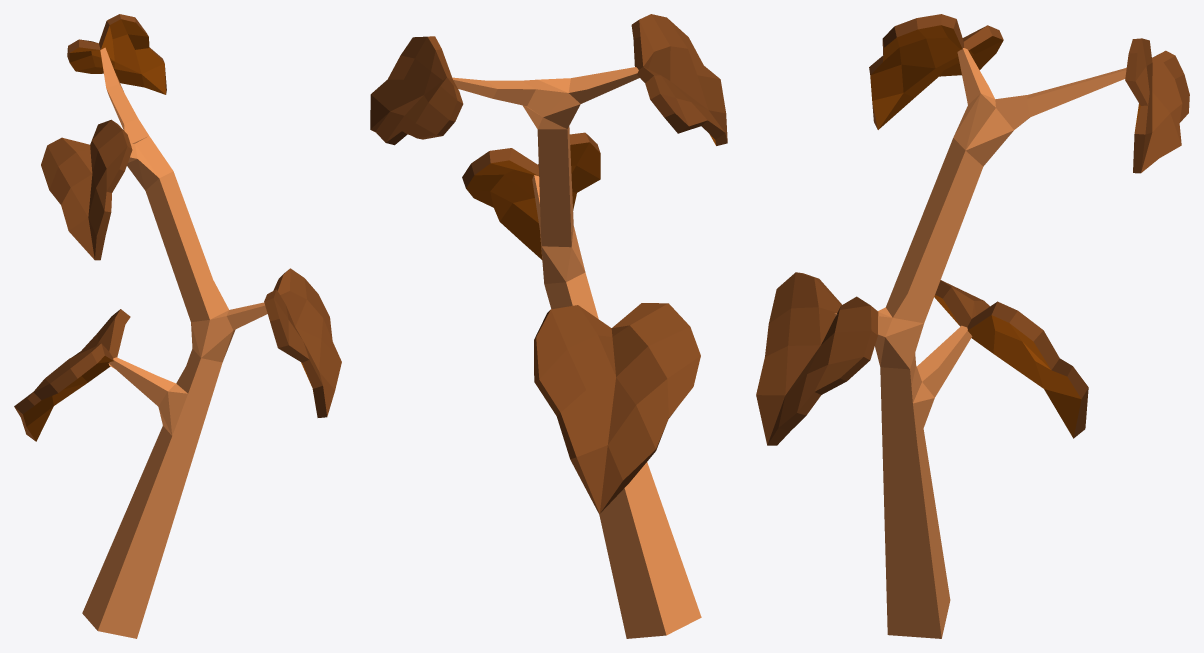
The model's file is Cucumber_Dead_S.fbx.
3 renders of one model, left to right at view 1: azimuth 30°, elevation 25°; view 2: azimuth 150°, elevation 25°; view 3: azimuth 270°, elevation 25°, orthographic. The views are drawn at different scales.
Visible parts, largest first — view 1: Cucumber_Dead_S; view 2: Cucumber_Dead_S; view 3: Cucumber_Dead_S.
Boxes of the visible parts, <box> form: Cucumber_Dead_S: <box>14,14,341,638</box>; Cucumber_Dead_S: <box>370,14,727,638</box>; Cucumber_Dead_S: <box>756,14,1189,638</box>.
Size of the model in its own units: 5.9 by 12.5 by 7.58.
